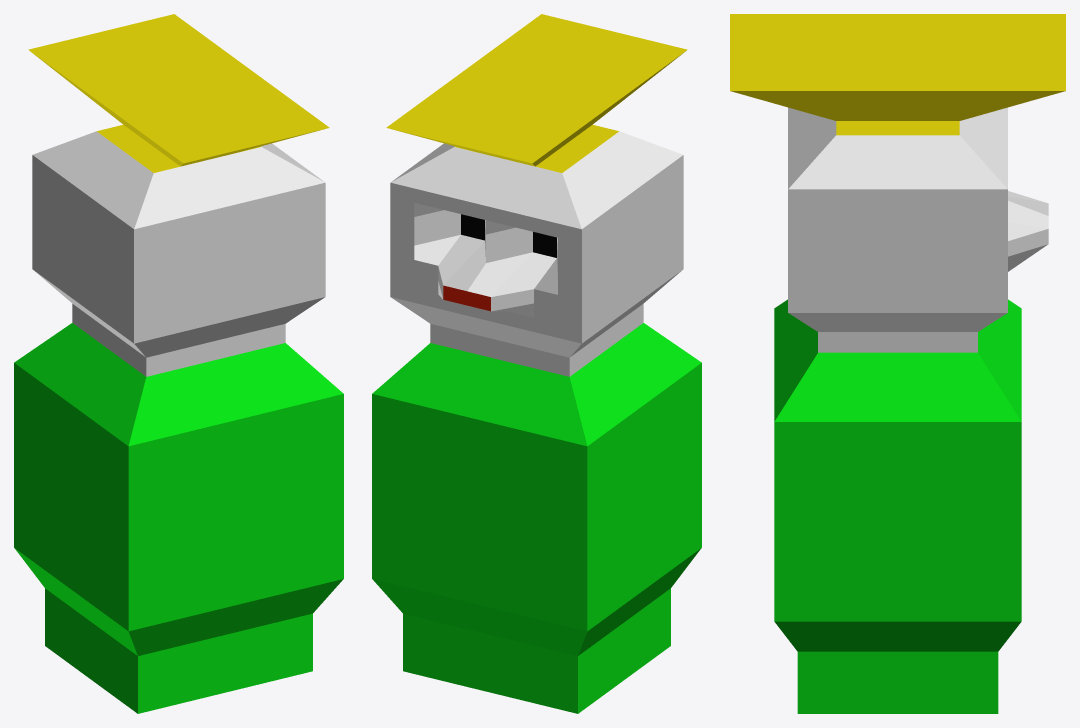
Rendered from NPC1.glb.
The picture shows the model from 3 angles, left to right: view 1: azimuth 30°, elevation 25°; view 2: azimuth 150°, elevation 25°; view 3: azimuth 270°, elevation 25°; orthographic projection. The views are drawn at different scales.
Parts seen in each view (by area): view 1: Cube; view 2: Cube; view 3: Cube.
Part boxes in pixels (bbox=[...]): Cube: bbox=[14, 14, 343, 713]; Cube: bbox=[372, 14, 701, 713]; Cube: bbox=[730, 14, 1065, 713].
Bounding box in the file's own units: 1.41 × 3.57 × 1.77.
